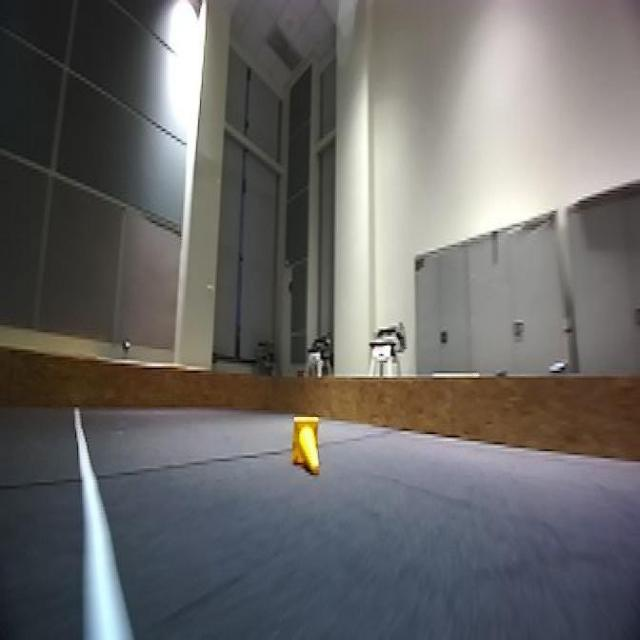frc_cone: (290, 417, 324, 477)
